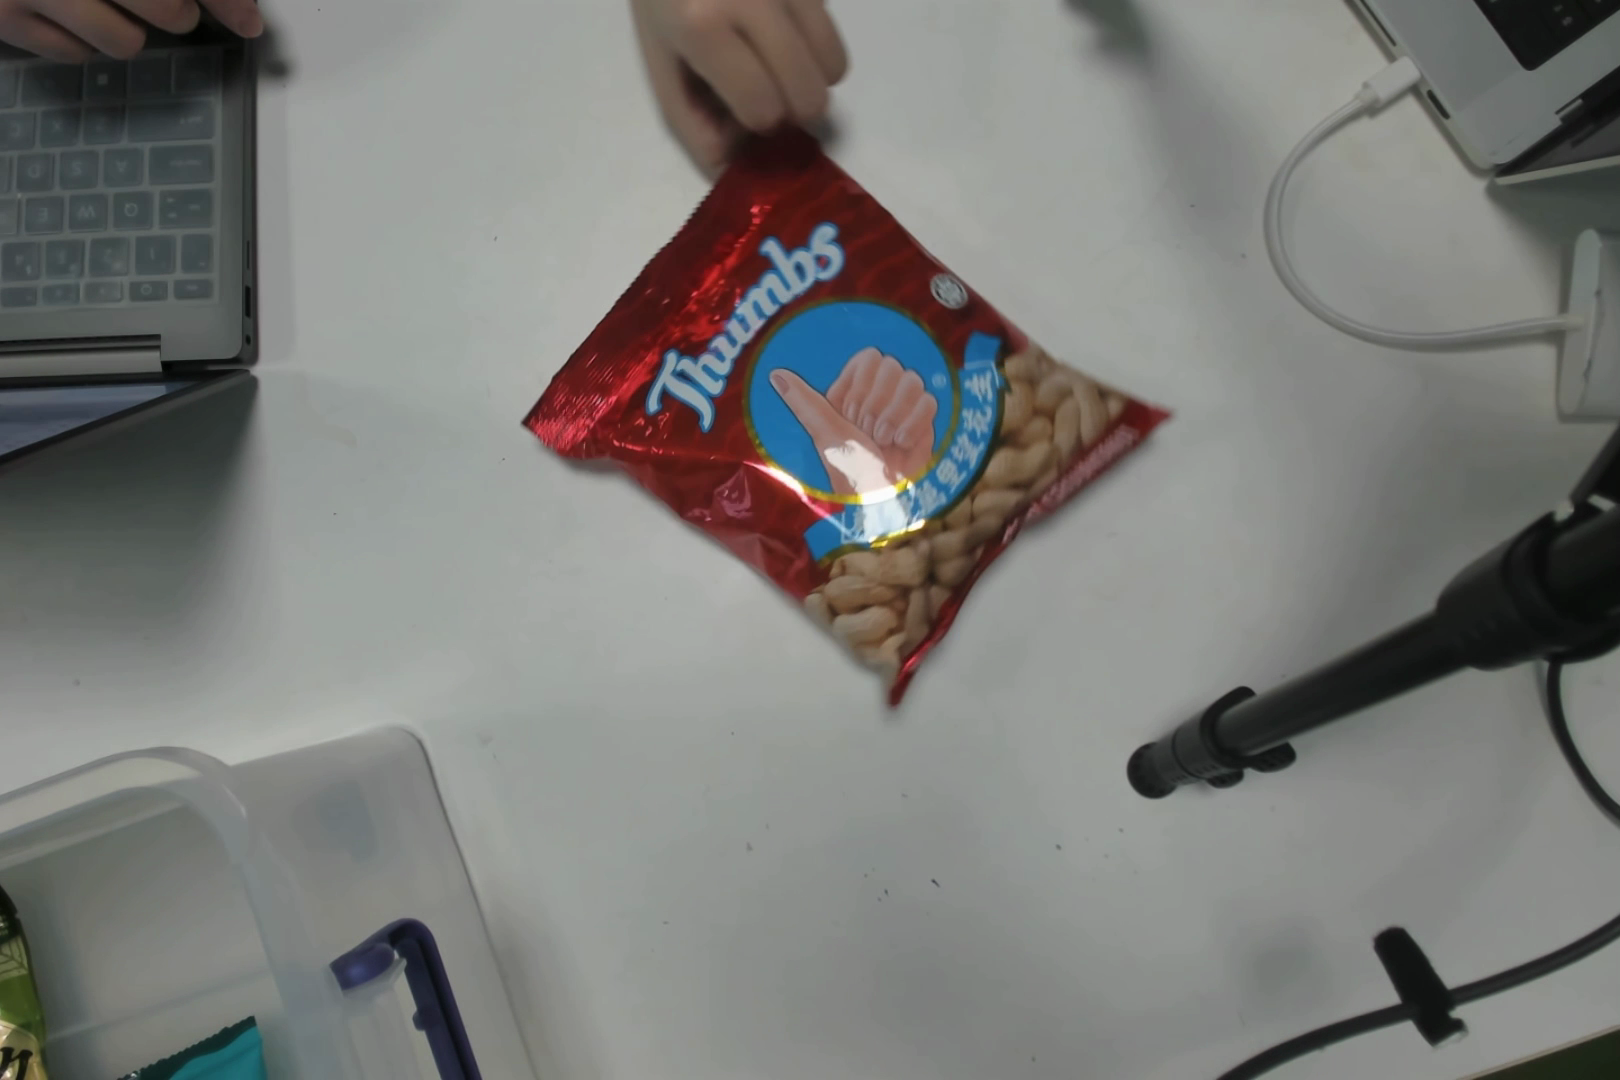Nuts_100-199g_Halal_NonHealthy: (658, 201, 1074, 630)
